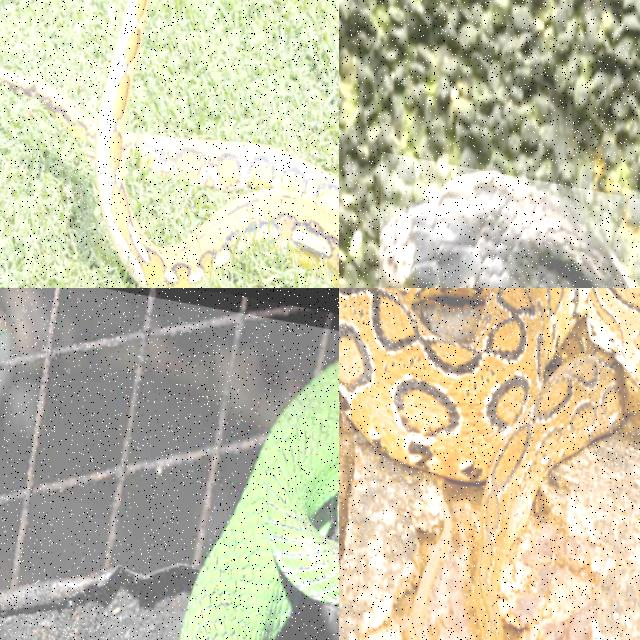Daboia siamensis: (339, 288, 639, 639)
Malayopython reticulatus: (0, 0, 338, 287)
Naja siamensis: (381, 172, 632, 287)
Trimeresurus macrops: (180, 363, 338, 639)
snake: (339, 288, 639, 639), (0, 0, 338, 287), (180, 363, 338, 639), (381, 172, 632, 287)
